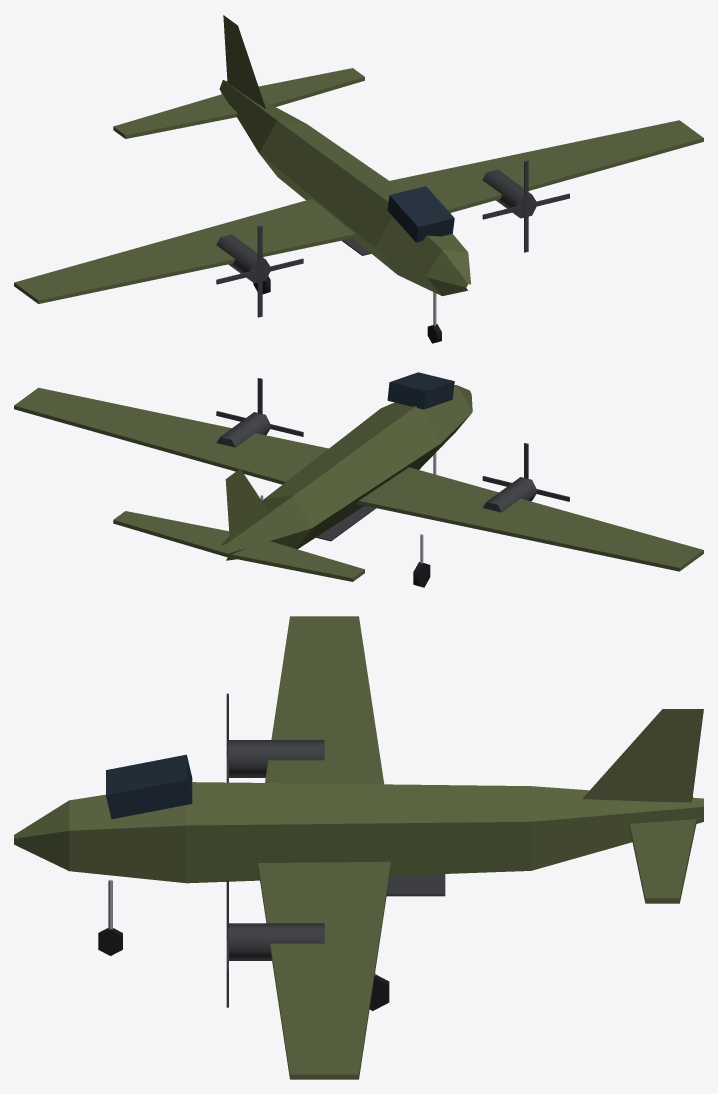
The model's file is veh_air_bomber_a06_lod1.glb.
3 views of the same model, one above another, from view 1: azimuth 30°, elevation 25°; view 2: azimuth 150°, elevation 25°; view 3: azimuth 270°, elevation 25° (orthographic). The views are drawn at different scales.
Parts seen in each view (by area): view 1: body, propeller_0, propeller_1; view 2: body, propeller_1, propeller_0, gear_1; view 3: body, gear_0.
Part boxes in pixels (x1,y1,x2,y2): body: [14, 15, 703, 303]; propeller_0: [216, 225, 303, 317]; propeller_1: [482, 160, 569, 252]; body: [14, 372, 703, 581]; propeller_1: [216, 378, 303, 436]; propeller_0: [482, 443, 569, 501]; gear_1: [413, 534, 430, 587]; body: [14, 616, 703, 1079]; gear_0: [98, 879, 122, 955].
Bounding box in the file's own units: 22.66 × 5.68 × 14.42.
